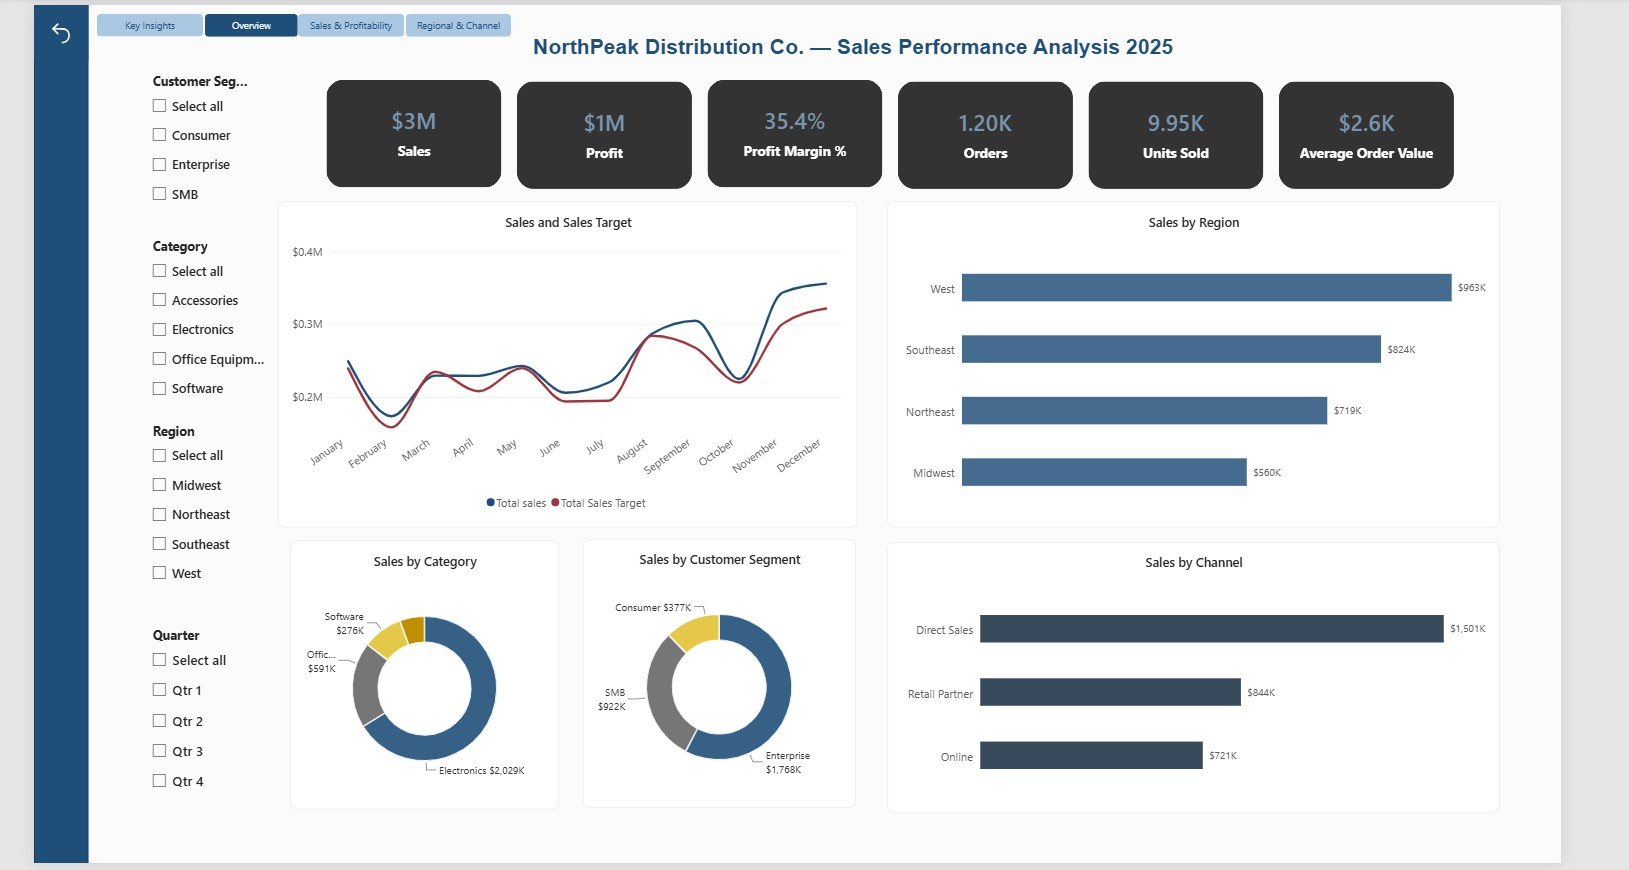

The dashboard page shown, as its layout file describes it:
{"tool":"powerbi","page":{"name":"Executive Overview","canvas":[1920,1080],"ordinal":1},"visuals":[{"type":"shape","box":[0,0,68.3,1080],"z":0,"group":"g1"},{"type":"cardVisual","title":"Profit Margin %","fields":{"Data":["Measure Table.Profit Margin %"]},"box":[846.5,94,220,135],"z":0,"group":"g2"},{"type":"lineChart","title":" Sales and Sales Target","fields":{"Y":["Measure Table.Total sales","Measure Table.Total Sales Target"],"Category":["Calendar.Month Name"]},"box":[308,248,728,410],"z":0},{"type":"actionButton","box":[0,0,68.3,70],"z":1000,"group":"g1"},{"type":"cardVisual","title":"Orders","fields":{"Data":["Measure Table.Total Orders"]},"box":[1086.1,96.2,220,135],"z":1000,"group":"g2"},{"type":"barChart","title":"Sales by Region","fields":{"Category":["Sales_Data.Region"],"Y":["Measure Table.Total sales"]},"box":[1073.9,248.1,770,410],"z":1000},{"type":"cardVisual","title":"Total Sales","fields":{"Data":["Measure Table.Total Units Sold"]},"box":[1325.6,96.2,220,135],"z":2000,"group":"g2"},{"type":"donutChart","title":"Sales by Category","fields":{"Category":["Products.Category"],"Y":["Measure Table.Total sales"]},"box":[322.2,673.3,337.8,337.8],"z":2000},{"type":"cardVisual","title":"Profit","fields":{"Data":["Measure Table.Total Profit"]},"box":[607,95.1,220,135],"z":3000,"group":"g2"},{"type":"donutChart","title":"Sales by Customer Segment","fields":{"Category":["Sales_Data.Customer Segment"],"Y":["Measure Table.Total sales"]},"box":[690,672.2,343.3,337.8],"z":3000},{"type":"cardVisual","title":"Total Sales","fields":{"Data":["Measure Table.Average Order Value"]},"box":[1565.2,96.2,220,135],"z":4000,"group":"g2"},{"type":"clusteredBarChart","title":" Sales by Channel","fields":{"Category":["Sales_Data.Sales Channel"],"Y":["Measure Table.Total sales"]},"box":[1074,676,770,340],"z":4000},{"type":"slicer","fields":{"Values":["Sales_Data.Customer Segment"]},"box":[142,84,150,194],"z":5000},{"type":"cardVisual","title":" Sales","fields":{"Data":["Measure Table.Total sales"]},"box":[367.4,93.4,220,135],"z":5000,"group":"g2"},{"type":"slicer","fields":{"Values":["Sales_Data.Category"]},"box":[142,292,150,218],"z":6000},{"type":"slicer","fields":{"Values":["Sales_Data.Region"]},"box":[142,524,144,244],"z":7000},{"type":"slicer","fields":{"Values":["Calendar.Date.Variation.Date Hierarchy.Quarter"]},"box":[142,782,144,250],"z":8000},{"type":"group","id":"g1","title":"Bar Group","box":[0,0,68.3,1080],"z":9000},{"type":"group","id":"g2","title":"KPI Card","box":[367.4,93.4,1417.8,137.8],"z":10000},{"type":"textbox","box":[467.5,37.5,1125,32.5],"z":11000},{"type":"actionButton","box":[214.8,10.4,116.7,28.7],"z":12000},{"type":"actionButton","box":[467.8,10.4,132,28.7],"z":13000},{"type":"actionButton","box":[332.9,10.4,133.3,28.7],"z":14000},{"type":"actionButton","box":[79.1,10.4,133.3,28.3],"z":15000}]}

Visuals, with their boxes on the page's 1920x1080 design canvas (x1, y1, x2, y2). These are canvas units, not pixel positions in the 1629x870 screenshot, which may show the page scaled, cropped or inside an application window:
shape: left=0, top=0, right=68, bottom=1080
"Profit Margin %" cardVisual: left=846, top=94, right=1066, bottom=229
" Sales and Sales Target" lineChart: left=308, top=248, right=1036, bottom=658
actionButton: left=0, top=0, right=68, bottom=70
"Orders" cardVisual: left=1086, top=96, right=1306, bottom=231
"Sales by Region" barChart: left=1074, top=248, right=1844, bottom=658
"Total Sales" cardVisual: left=1326, top=96, right=1546, bottom=231
"Sales by Category" donutChart: left=322, top=673, right=660, bottom=1011
"Profit" cardVisual: left=607, top=95, right=827, bottom=230
"Sales by Customer Segment" donutChart: left=690, top=672, right=1033, bottom=1010
"Total Sales" cardVisual: left=1565, top=96, right=1785, bottom=231
" Sales by Channel" clusteredBarChart: left=1074, top=676, right=1844, bottom=1016
slicer - Sales_Data.Customer Segment: left=142, top=84, right=292, bottom=278
" Sales" cardVisual: left=367, top=93, right=587, bottom=228
slicer - Sales_Data.Category: left=142, top=292, right=292, bottom=510
slicer - Sales_Data.Region: left=142, top=524, right=286, bottom=768
slicer - Calendar.Date.Variation.Date Hierarchy.Quarter: left=142, top=782, right=286, bottom=1032
"Bar Group" group: left=0, top=0, right=68, bottom=1080
"KPI Card" group: left=367, top=93, right=1785, bottom=231
textbox: left=468, top=38, right=1592, bottom=70
actionButton: left=215, top=10, right=332, bottom=39
actionButton: left=468, top=10, right=600, bottom=39
actionButton: left=333, top=10, right=466, bottom=39
actionButton: left=79, top=10, right=212, bottom=39
